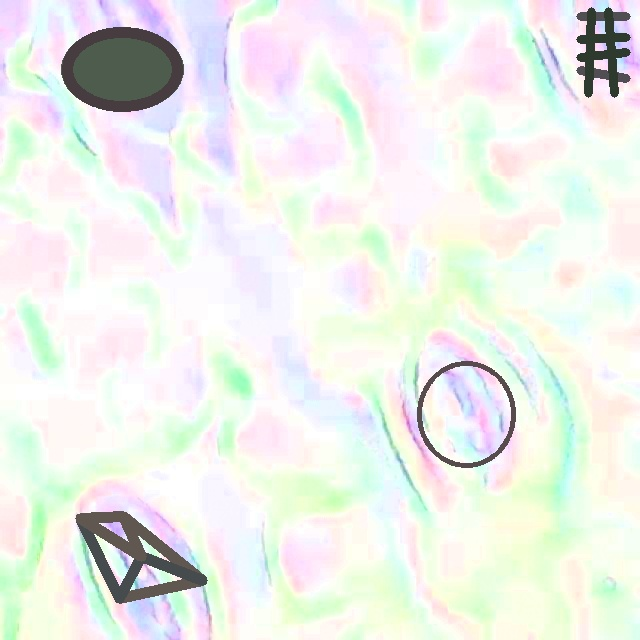close: (417, 361, 516, 468)
open: (76, 511, 206, 602), (60, 27, 183, 111), (576, 7, 630, 97)
